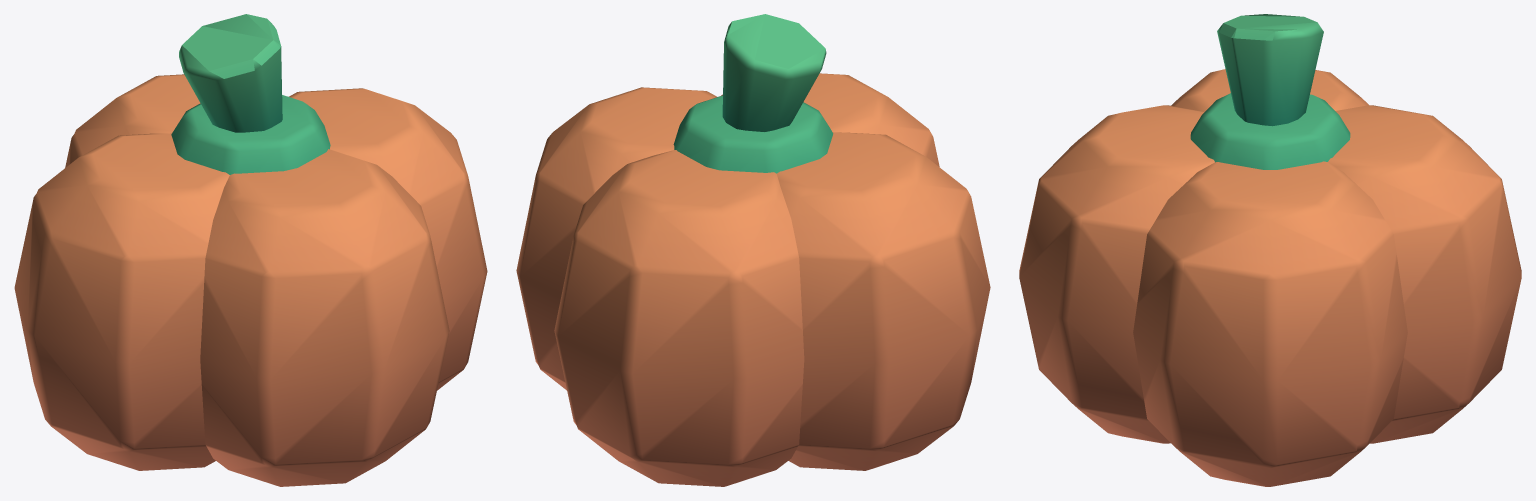
The model's file is kenney-graveyard__pumpkin.glb.
3 renders of one model, left to right at view 1: azimuth 30°, elevation 25°; view 2: azimuth 150°, elevation 25°; view 3: azimuth 270°, elevation 25°, orthographic.
Parts seen in each view (by area): view 1: pumpkin; view 2: pumpkin; view 3: pumpkin.
Part boxes in pixels (<box>): pumpkin: <box>14,14,487,486</box>; pumpkin: <box>516,14,990,486</box>; pumpkin: <box>1019,14,1521,486</box>.
Size of the model in its own units: 0.3731 by 0.3199 by 0.3731.
1 material, 1 textured.
